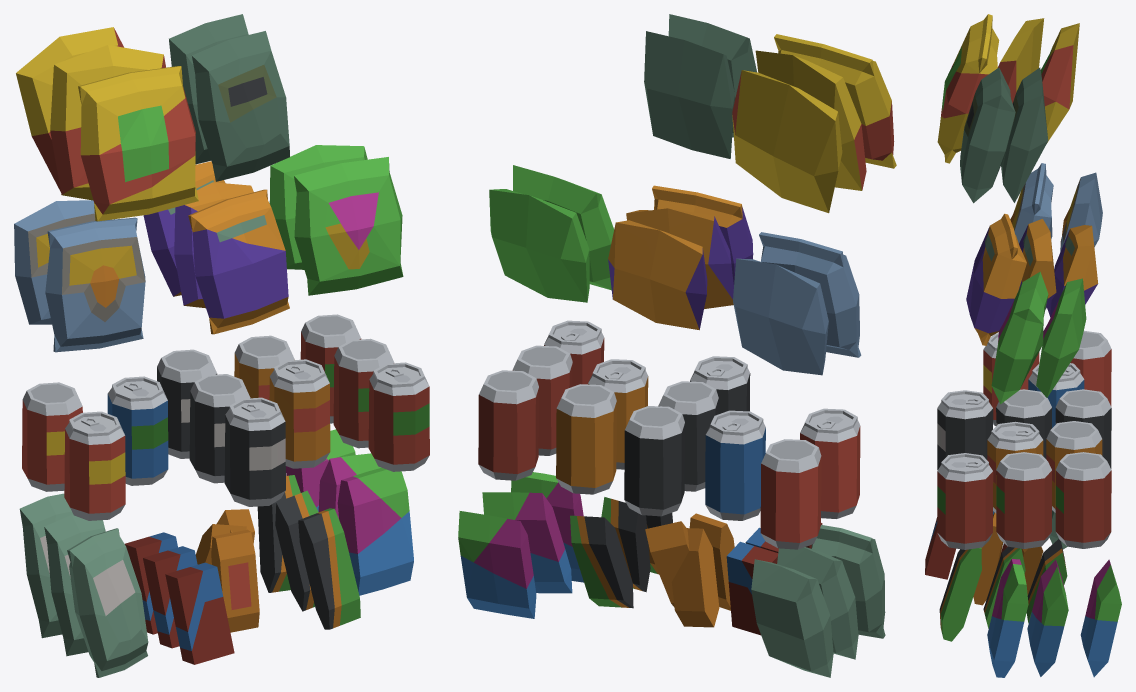
Rendered from SM_Prop_Vending_Machine_01_Insert_01.fbx.
3 views of the same model, side by side, from view 1: azimuth 30°, elevation 25°; view 2: azimuth 150°, elevation 25°; view 3: azimuth 270°, elevation 25° (orthographic). The views are drawn at different scales.
Visible parts, largest first — view 1: SM_Prop_Vending_Machine_01_Insert_01; view 2: SM_Prop_Vending_Machine_01_Insert_01; view 3: SM_Prop_Vending_Machine_01_Insert_01.
Part boxes in pixels (<box>): SM_Prop_Vending_Machine_01_Insert_01: <box>14,14,429,677</box>; SM_Prop_Vending_Machine_01_Insert_01: <box>458,14,896,677</box>; SM_Prop_Vending_Machine_01_Insert_01: <box>925,14,1121,677</box>.
Bounding box in the file's own units: 61.46 × 97.67 × 32.86.
